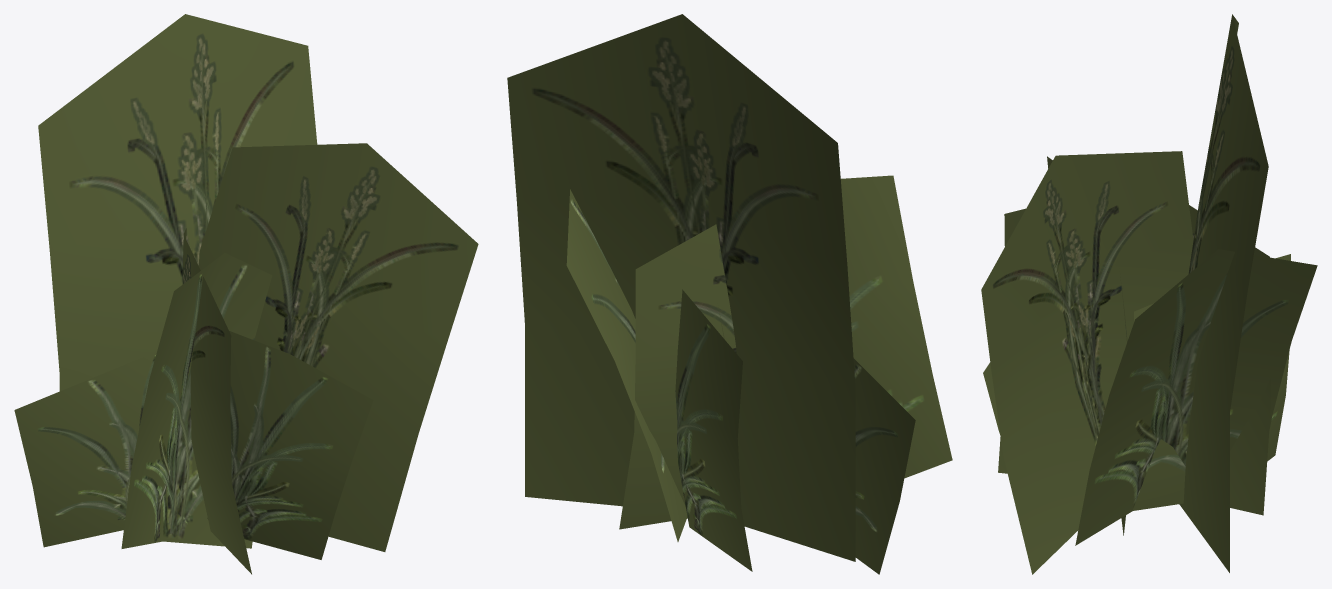
File: SM_Grass_small_clump_A1.fbx
The picture shows the model from 3 angles, left to right: view 1: azimuth 30°, elevation 25°; view 2: azimuth 150°, elevation 25°; view 3: azimuth 270°, elevation 25°; orthographic projection. The views are drawn at different scales.
Visible parts, largest first — view 1: SM_Grass_small_clump_A1; view 2: SM_Grass_small_clump_A1; view 3: SM_Grass_small_clump_A1.
Part boxes in pixels (x1=…): SM_Grass_small_clump_A1: x1=14, y1=14, x2=478, y2=574; SM_Grass_small_clump_A1: x1=507, y1=14, x2=952, y2=574; SM_Grass_small_clump_A1: x1=981, y1=14, x2=1317, y2=574.
Size of the model in its own units: 42.97 by 56.57 by 33.43.
